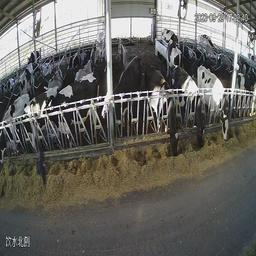cow: (39, 67, 101, 156), (143, 59, 181, 154), (20, 80, 62, 155), (170, 63, 206, 147), (197, 55, 230, 143), (0, 90, 31, 176), (115, 49, 143, 140), (234, 69, 255, 112), (18, 61, 39, 99), (164, 39, 184, 78), (73, 56, 93, 86), (47, 62, 67, 91), (195, 30, 213, 51), (160, 25, 180, 43), (94, 30, 105, 61), (66, 51, 82, 71), (27, 47, 41, 69), (2, 75, 15, 93)
